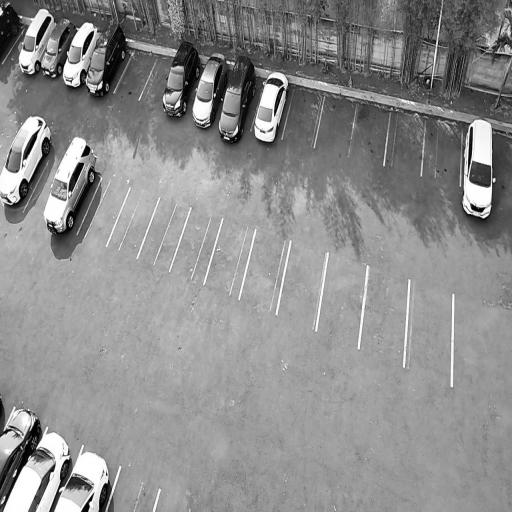Car: (32, 128, 104, 247), (3, 417, 78, 512), (0, 110, 55, 215), (210, 52, 263, 149), (0, 399, 44, 512), (52, 442, 119, 512), (157, 32, 206, 122), (82, 15, 133, 99), (186, 47, 232, 132), (460, 111, 494, 225), (249, 66, 294, 146), (58, 19, 103, 90), (15, 5, 58, 79), (36, 15, 78, 84), (0, 0, 23, 63)
Space Available: (405, 278, 454, 386), (359, 264, 409, 364), (316, 252, 367, 347), (277, 240, 328, 329), (239, 228, 291, 314), (170, 207, 223, 285), (204, 217, 255, 298), (137, 197, 190, 271), (107, 188, 160, 259), (77, 176, 130, 246), (422, 118, 462, 186), (384, 110, 424, 175), (282, 87, 324, 147), (349, 105, 391, 165), (315, 97, 357, 156), (106, 465, 160, 510), (113, 50, 157, 100), (23, 160, 60, 216), (139, 57, 171, 104), (2, 27, 29, 66)
